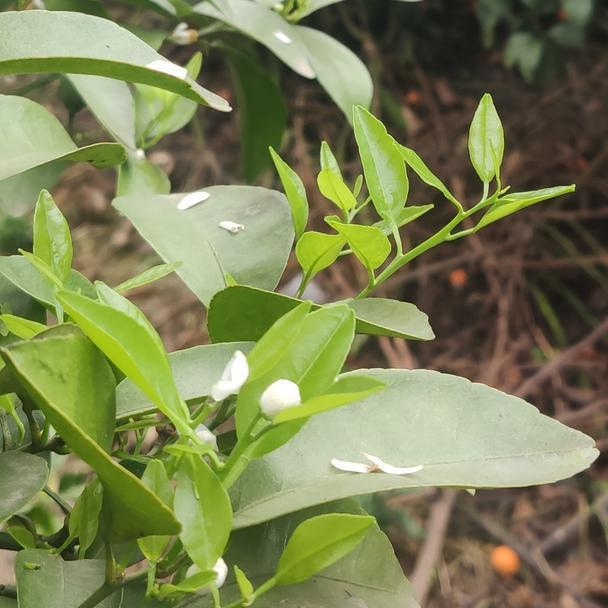shoot: (352, 114, 580, 289)
